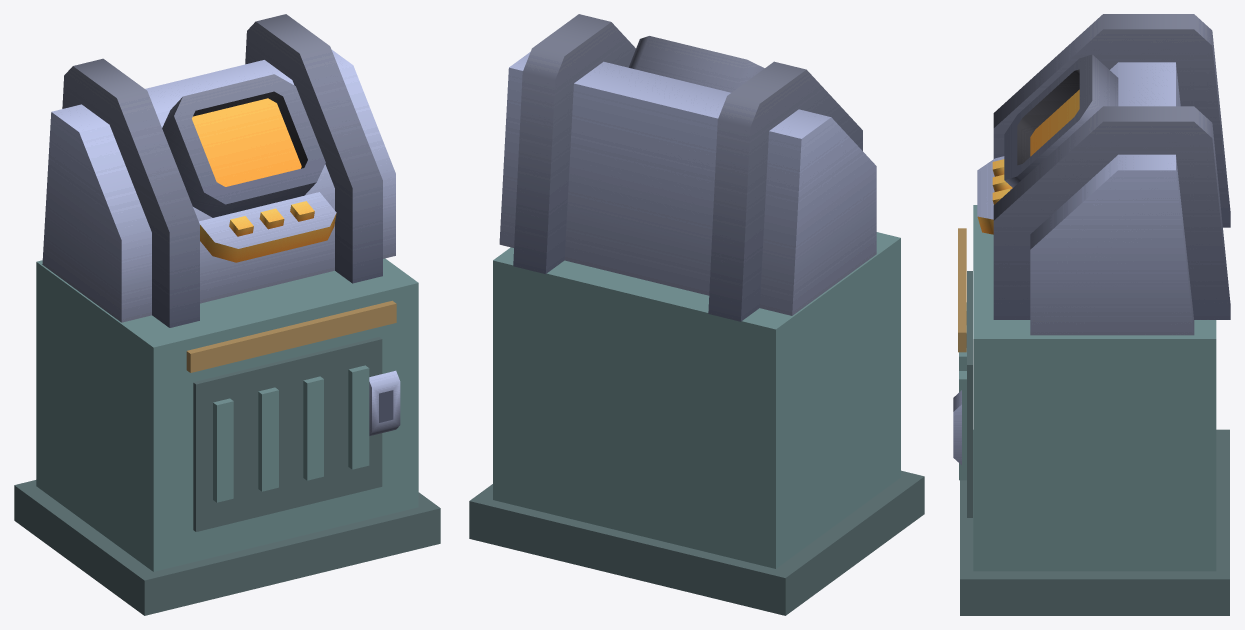
File: service_cabinet.glb
3 renders of one model, left to right at view 1: azimuth 30°, elevation 25°; view 2: azimuth 150°, elevation 25°; view 3: azimuth 270°, elevation 25°, orthographic. The views are drawn at different scales.
Parts seen in each view (by area): view 1: computer_system_3, CabinetLower, AccessPanel, Plinth, IdentificationBand, Louvre.003, Louvre.001, Louvre.002, Louvre, wall_switch_10; view 2: CabinetLower, computer_system_3, Plinth; view 3: computer_system_3, CabinetLower, Plinth, AccessPanel, IdentificationBand, Louvre.003, wall_switch_10.
Part boxes in pixels (<box>): computer_system_3: <box>42,14,395,327</box>; CabinetLower: <box>36,258,418,571</box>; AccessPanel: <box>193,337,382,531</box>; Plinth: <box>14,480,440,615</box>; IdentificationBand: <box>186,300,396,372</box>; Louvre.003: <box>348,365,369,469</box>; Louvre.001: <box>258,387,278,491</box>; Louvre.002: <box>303,376,323,480</box>; Louvre: <box>213,398,233,502</box>; wall_switch_10: <box>369,370,400,435</box>; CabinetLower: <box>493,232,900,568</box>; computer_system_3: <box>499,14,876,321</box>; Plinth: <box>469,470,924,615</box>; computer_system_3: <box>977,14,1230,335</box>; CabinetLower: <box>973,205,1216,571</box>; Plinth: <box>960,429,1229,615</box>; AccessPanel: <box>967,271,972,517</box>; IdentificationBand: <box>958,228,966,352</box>; Louvre.003: <box>959,371,966,480</box>; wall_switch_10: <box>953,390,961,465</box>.
Bounding box in the file's own units: 1.05 × 1.55 × 0.8217.
Materials: 4 (1 with a texture image).
